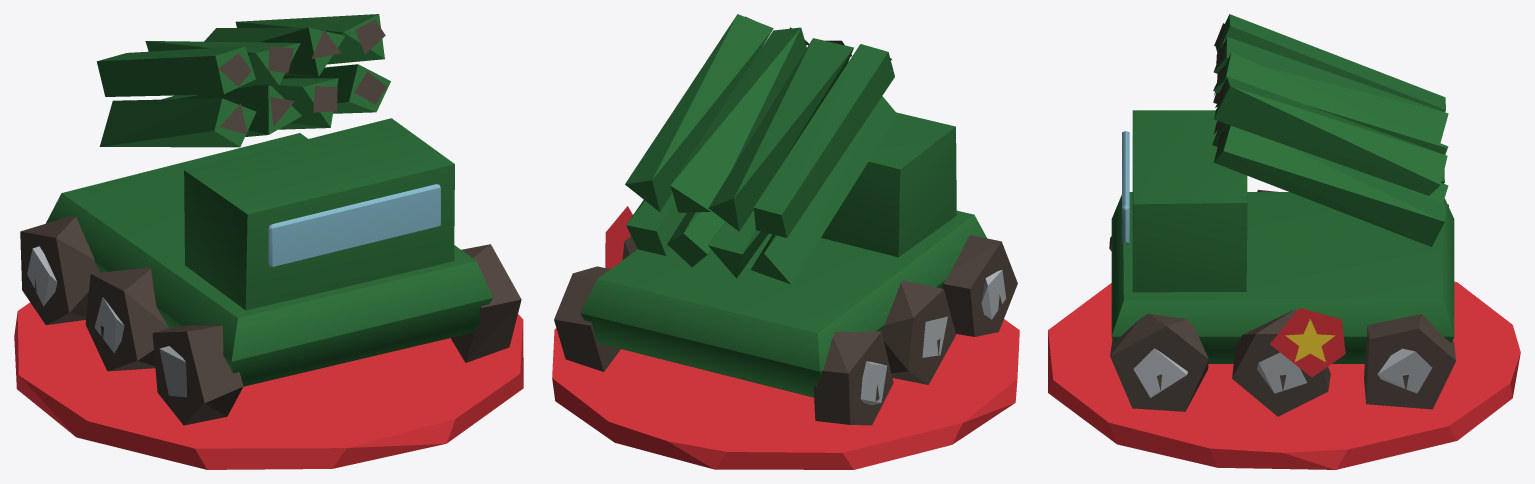
The model's file is vietnam_artillery_lod1.glb.
The picture shows the model from 3 angles, left to right: view 1: azimuth 30°, elevation 25°; view 2: azimuth 150°, elevation 25°; view 3: azimuth 270°, elevation 25°; orthographic projection. The views are drawn at different scales.
Visible parts, largest first — view 1: body_hull, base_pedestal; view 2: body_hull, base_pedestal; view 3: body_hull, base_pedestal.
Boxes of the visible parts, x1,y1,x2,y2 form: body_hull: [20, 14, 521, 425]; base_pedestal: [14, 302, 523, 469]; body_hull: [554, 14, 1017, 425]; base_pedestal: [552, 319, 1019, 469]; body_hull: [1109, 14, 1455, 416]; base_pedestal: [1048, 281, 1520, 469].
Bounding box in the file's own units: 0.7751 × 0.5857 × 0.7751.
